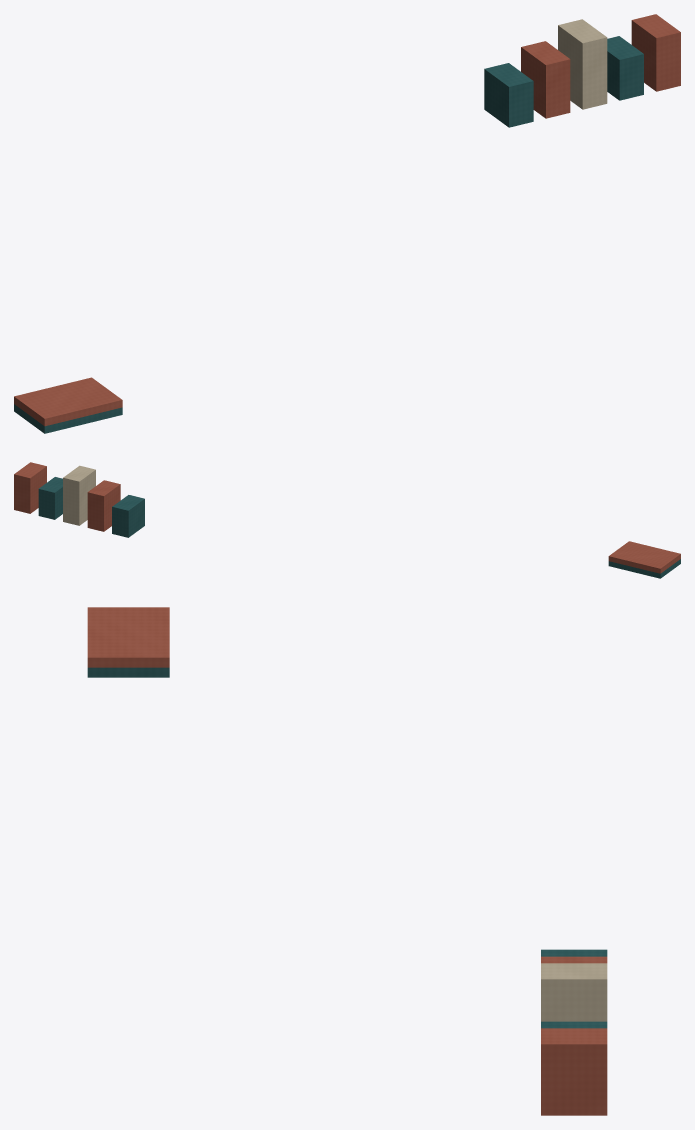
File: detail_props.glb
3 renders of one model, top to bottom at view 1: azimuth 30°, elevation 25°; view 2: azimuth 150°, elevation 25°; view 3: azimuth 270°, elevation 25°, orthographic. The views are drawn at different scales.
Parts seen in each view (by area): view 1: SUI_DeskBook_2, SUI_TableBook_1, SUI_DeskBook_1, SUI_DeskBook_4, SUI_DeskBook_0, SUI_DeskBook_3, SUI_TableBook_0; view 2: SUI_DeskBook_2, SUI_TableBook_1, SUI_DeskBook_1, SUI_DeskBook_4, SUI_DeskBook_0, SUI_DeskBook_3, SUI_TableBook_0; view 3: SUI_DeskBook_4, SUI_TableBook_1, SUI_DeskBook_2, SUI_TableBook_0.
Boxes of the visible parts, bbox=[...] form: SUI_DeskBook_2: bbox=[558, 19, 607, 109]; SUI_TableBook_1: bbox=[14, 377, 122, 426]; SUI_DeskBook_1: bbox=[521, 41, 570, 118]; SUI_DeskBook_4: bbox=[631, 14, 680, 91]; SUI_DeskBook_0: bbox=[484, 63, 533, 127]; SUI_DeskBook_3: bbox=[607, 36, 643, 100]; SUI_TableBook_0: bbox=[14, 404, 122, 433]; SUI_DeskBook_2: bbox=[63, 465, 95, 525]; SUI_TableBook_1: bbox=[608, 541, 680, 573]; SUI_DeskBook_1: bbox=[87, 480, 120, 531]; SUI_DeskBook_4: bbox=[14, 462, 46, 513]; SUI_DeskBook_0: bbox=[112, 495, 144, 537]; SUI_DeskBook_3: bbox=[38, 477, 62, 519]; SUI_TableBook_0: bbox=[608, 559, 680, 578]; SUI_DeskBook_4: bbox=[541, 1028, 607, 1115]; SUI_TableBook_1: bbox=[87, 607, 169, 667]; SUI_DeskBook_2: bbox=[541, 963, 607, 1021]; SUI_TableBook_0: bbox=[87, 667, 169, 677].
Bounding box in the file's own units: 3.94 × 0.435 × 1.65.
3 materials, 3 textured.
